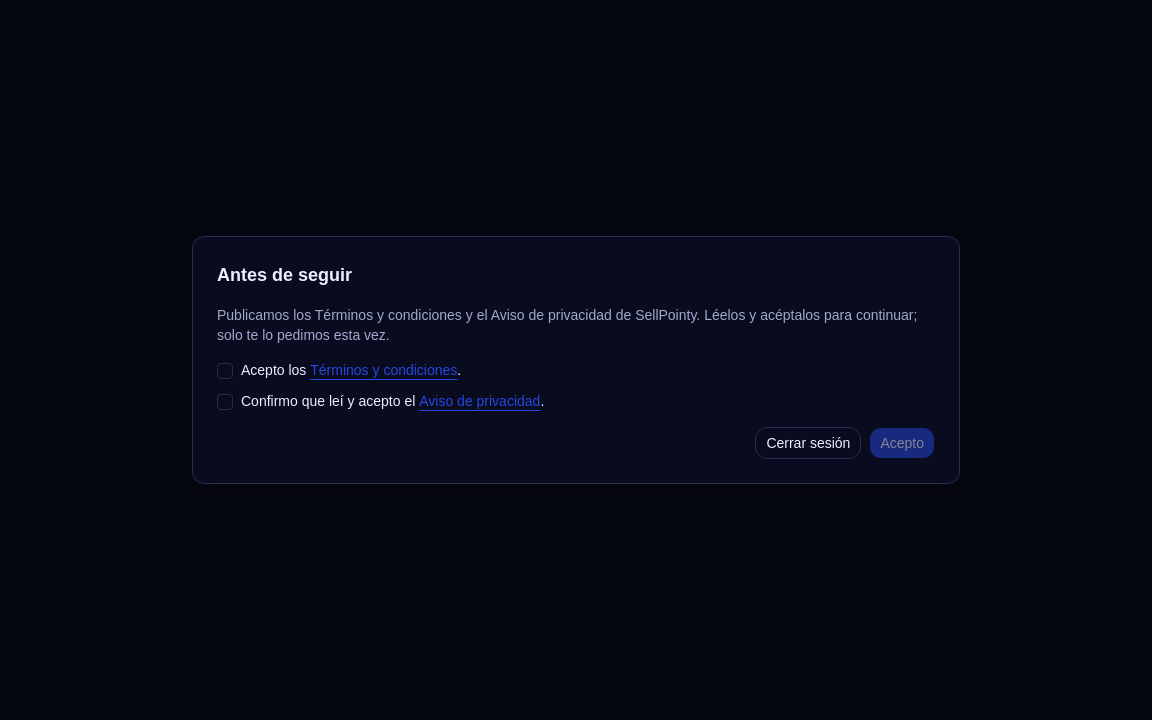
TermsGate › encendido › si el API falla, la pared SIGUE ahí y lo dice
Click the checkbox next to "Acepto los" at (225, 371), box left=217, top=363, right=233, bottom=379
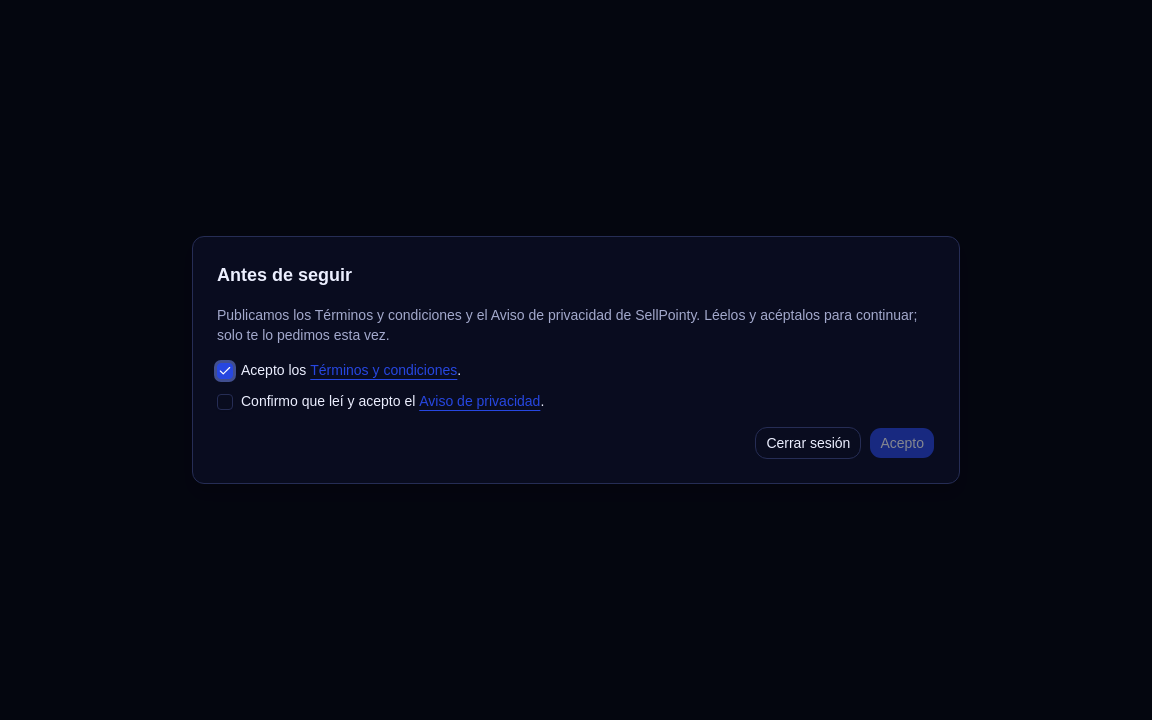
Click the checkbox next to "Confirmo que leí y acepto el" at (225, 402), box left=217, top=394, right=233, bottom=410
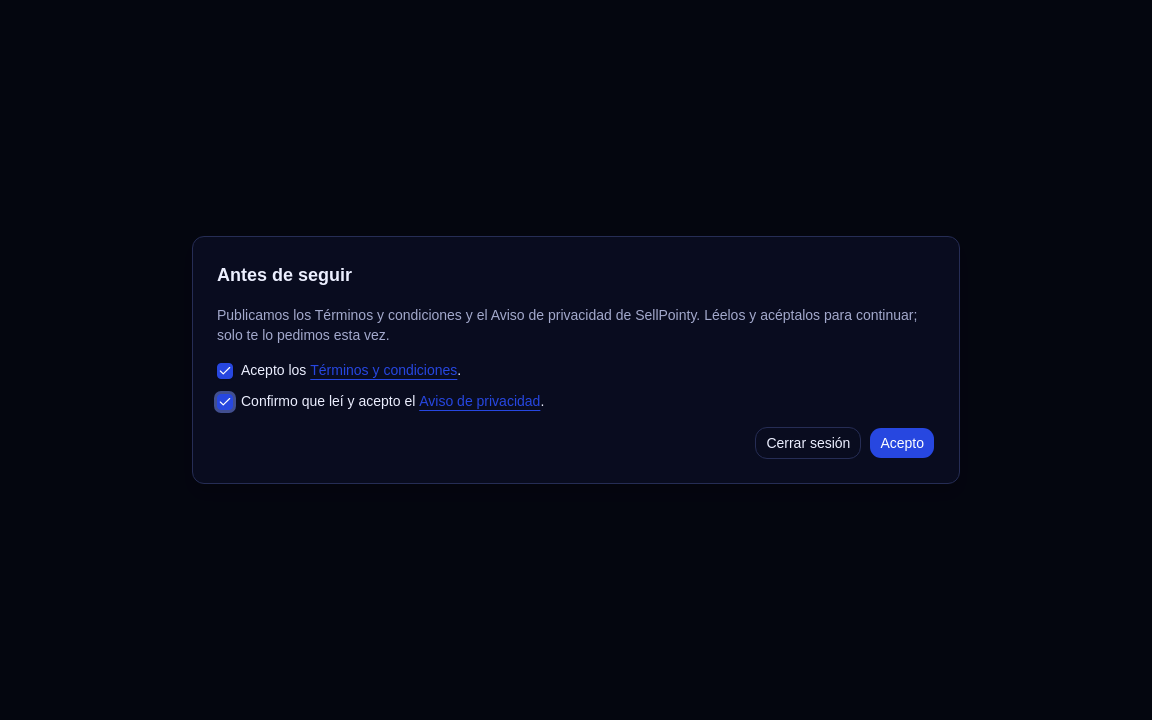
Click the button "Acepto" at (902, 443), box left=869, top=427, right=935, bottom=459
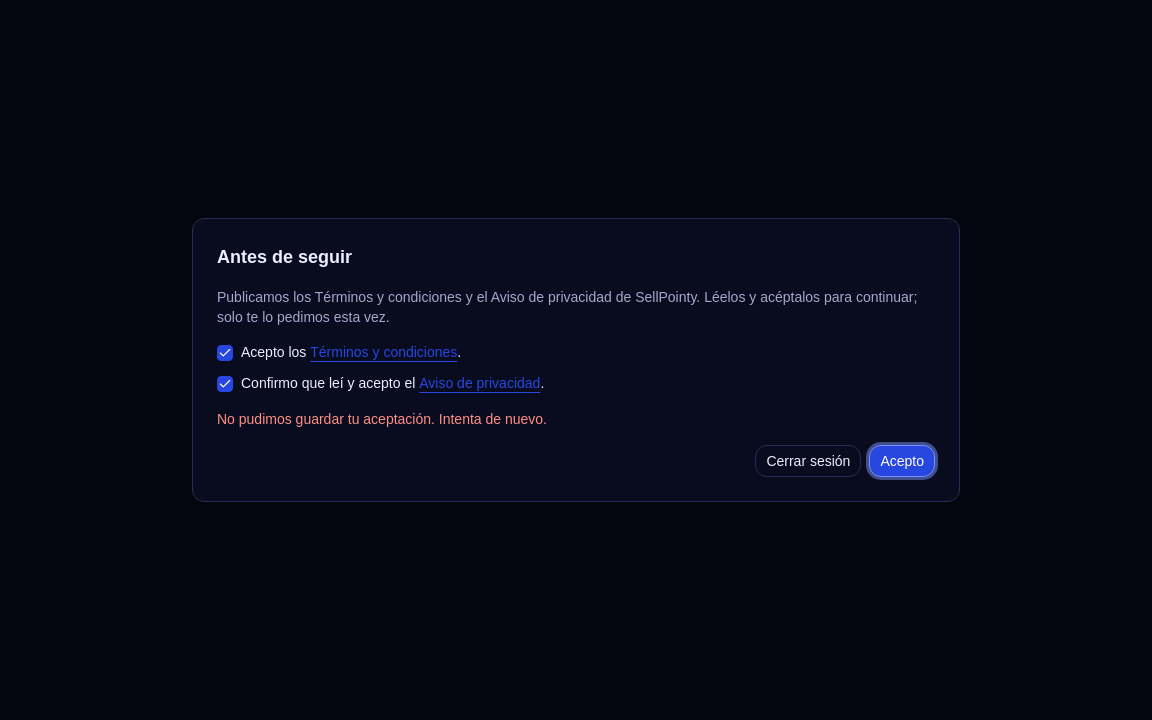
Expected: the dialog is shown, left=192, top=218, right=960, bottom=502
Expected: the message shows "No pudimos guardar tu aceptación", left=217, top=411, right=547, bottom=427
